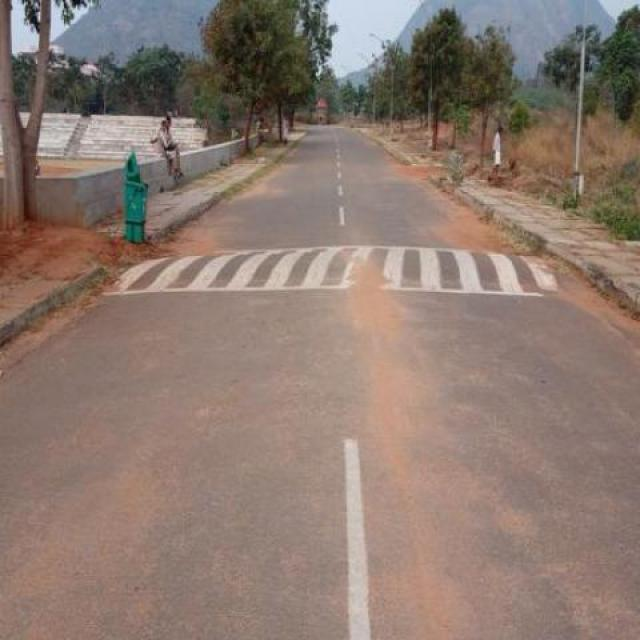Speed Bump: (110, 248, 566, 291)
